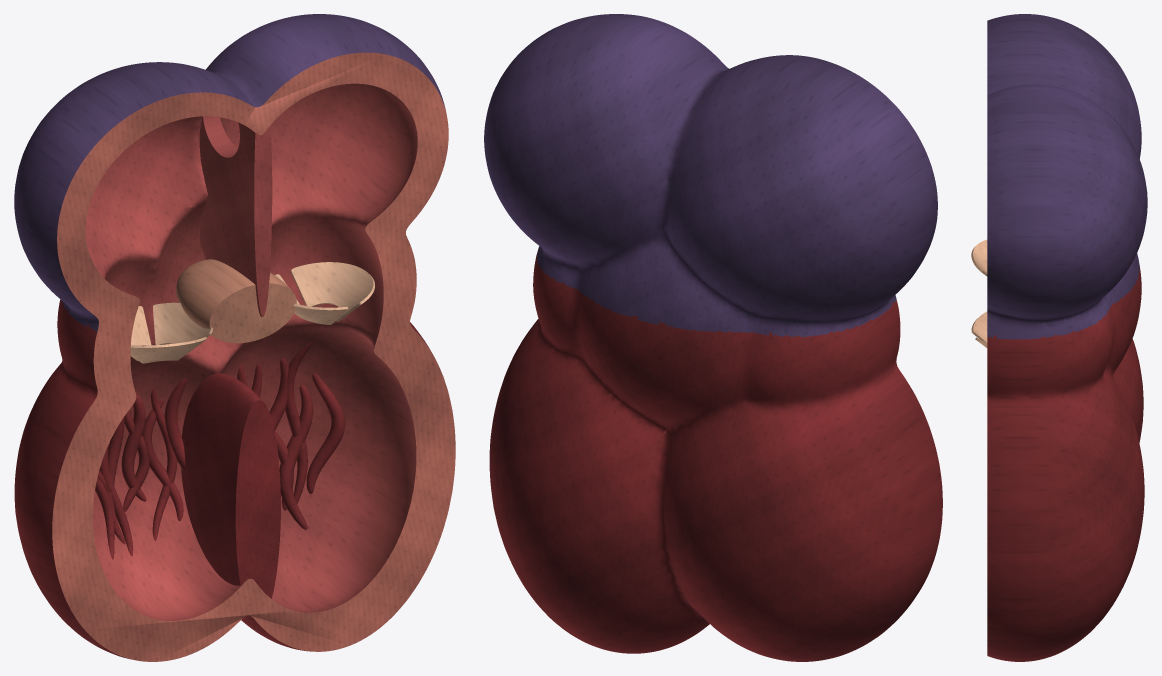
The model's file is HeartPartition_02_Weeks05-06_CushionFusion_Cutaway.glb.
The picture shows the model from 3 angles, left to right: view 1: azimuth 30°, elevation 25°; view 2: azimuth 150°, elevation 25°; view 3: azimuth 270°, elevation 25°; orthographic projection. The views are drawn at different scales.
Visible parts, largest first — view 1: VentricularWall_Posterior, AtrialWall_Posterior, MuscularInterventricularSeptum, SeptumPrimum, VentralEndocardialCushion, Mitral_Leaflet_1, DorsalEndocardialCushion, LV_Trabecula_11, Tricuspid_Leaflet_1, LV_Trabecula_06, LV_Trabecula_05, RV_Trabecula_10 (+10 smaller); view 2: VentricularWall_Posterior, AtrialWall_Posterior; view 3: VentricularWall_Posterior, AtrialWall_Posterior, Tricuspid_Leaflet_3, Mitral_Leaflet_2.
Part boxes in pixels (x1,y1,x2,y2): VentricularWall_Posterior: (14, 235, 455, 661); AtrialWall_Posterior: (14, 14, 448, 334); MuscularInterventricularSeptum: (181, 373, 280, 598); SeptumPrimum: (199, 116, 272, 316); VentralEndocardialCushion: (193, 273, 296, 343); Mitral_Leaflet_1: (290, 262, 374, 321); DorsalEndocardialCushion: (176, 259, 274, 322); LV_Trabecula_11: (279, 384, 313, 529); Tricuspid_Leaflet_1: (153, 302, 212, 344); LV_Trabecula_06: (306, 373, 345, 493); LV_Trabecula_05: (285, 342, 313, 503); RV_Trabecula_10: (121, 391, 146, 501); VentricularWall_Posterior: (489, 255, 942, 661); AtrialWall_Posterior: (484, 14, 937, 339); VentricularWall_Posterior: (987, 271, 1144, 661); AtrialWall_Posterior: (987, 14, 1147, 341); Tricuspid_Leaflet_3: (971, 239, 987, 276); Mitral_Leaflet_2: (971, 311, 987, 342).
Size of the model in its own units: 0.1421 by 0.2013 by 0.0577.
6 materials, 6 textured.
